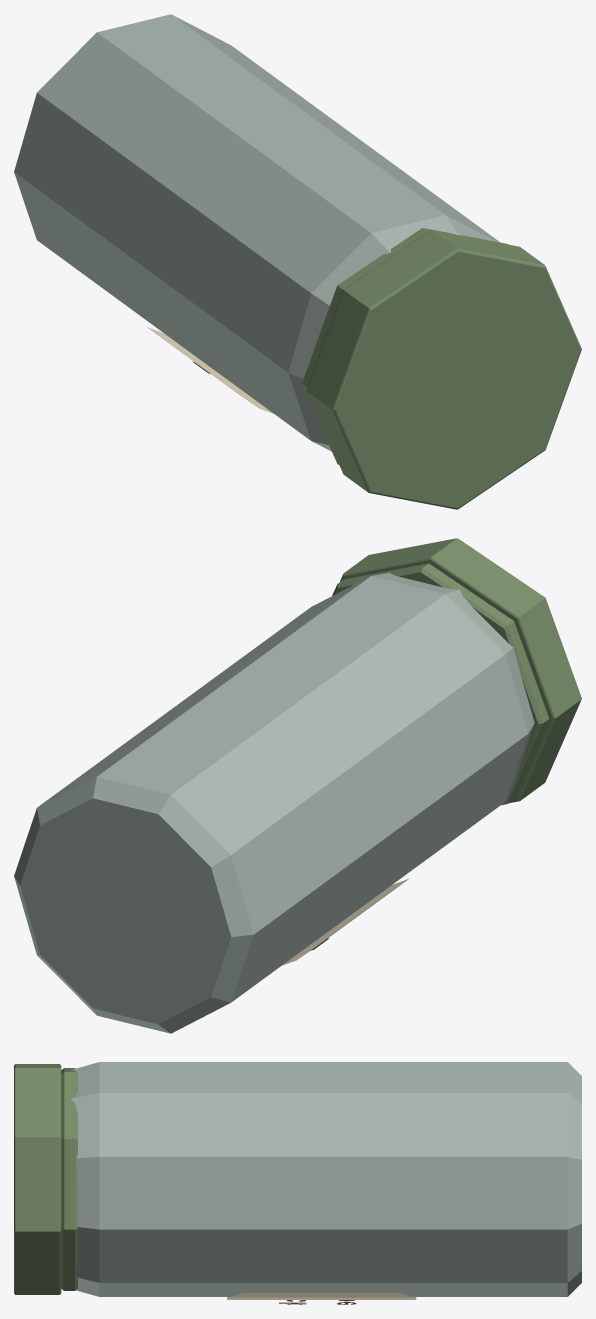
File: black_pepper.glb
The picture shows the model from 3 angles, top to bottom: view 1: azimuth 30°, elevation 25°; view 2: azimuth 150°, elevation 25°; view 3: azimuth 270°, elevation 25°; orthographic projection. The views are drawn at different scales.
Parts seen in each view (by area): view 1: black_pepper; view 2: black_pepper; view 3: black_pepper.
Part boxes in pixels (x1,y1,x2,y2): black_pepper: (14, 14, 581, 509); black_pepper: (14, 538, 581, 1033); black_pepper: (14, 1062, 581, 1304).
Size of the model in its own units: 0.052 by 0.0525 by 0.12.
